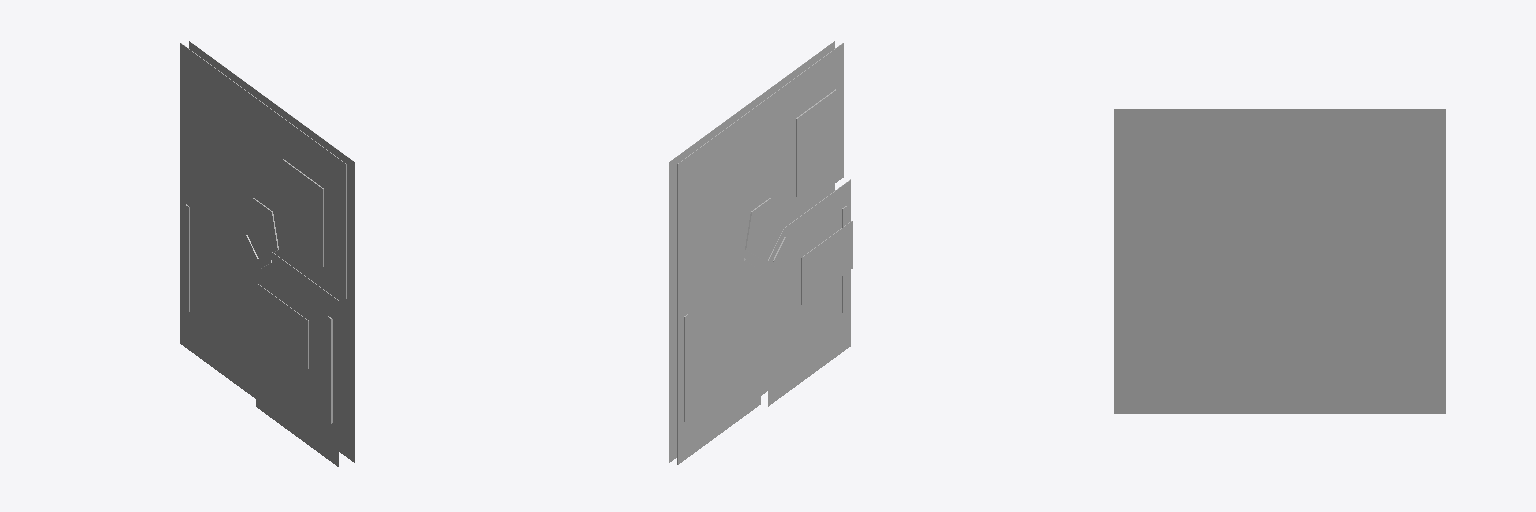
Rendered from 180208_VROS_Screen.obj.
3 views of the same model, side by side, from view 1: azimuth 30°, elevation 25°; view 2: azimuth 150°, elevation 25°; view 3: azimuth 270°, elevation 25° (orthographic).
Parts seen in each view (by area): view 1: welcome, news, notifications, base, date, notice, divider, pentagon, control2, control1; view 2: welcome, news, notifications, base, date, notice, divider, pentagon; view 3: base, welcome.
Part boxes in pixels (x1,y1,x2,y2): welcome: (180, 43, 346, 284); news: (180, 178, 260, 398); notifications: (256, 252, 338, 466); base: (189, 41, 354, 462); date: (283, 159, 323, 266); notice: (258, 284, 308, 368); divider: (180, 163, 346, 298); pentagon: (247, 198, 278, 256); control2: (328, 316, 332, 423); control1: (185, 204, 189, 311); welcome: (677, 43, 843, 284); news: (677, 250, 760, 464); notifications: (768, 179, 850, 406); base: (669, 41, 834, 462); date: (796, 89, 836, 196); notice: (801, 221, 852, 304); divider: (677, 163, 843, 298); pentagon: (745, 198, 777, 258); base: (1114, 113, 1445, 413); welcome: (1114, 109, 1445, 112).
Size of the model in its own units: 0.206 by 1.83 by 1.83.